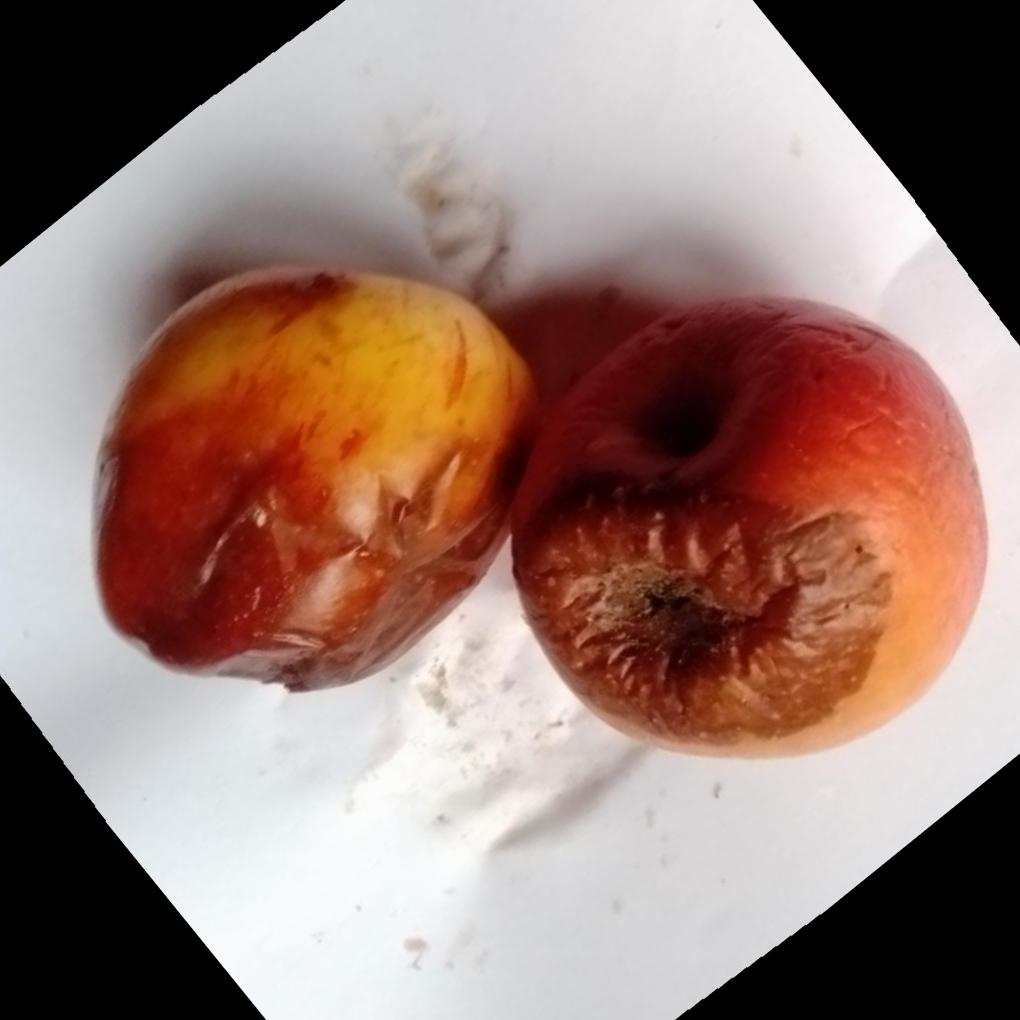FreshOrange: (91, 263, 993, 766)
